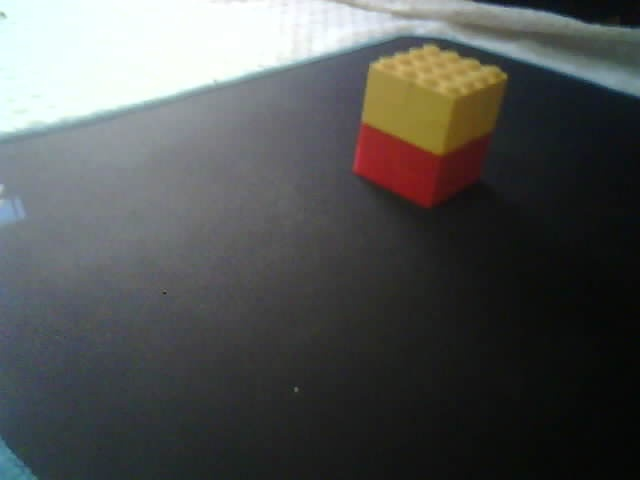lego: (349, 41, 509, 210)
